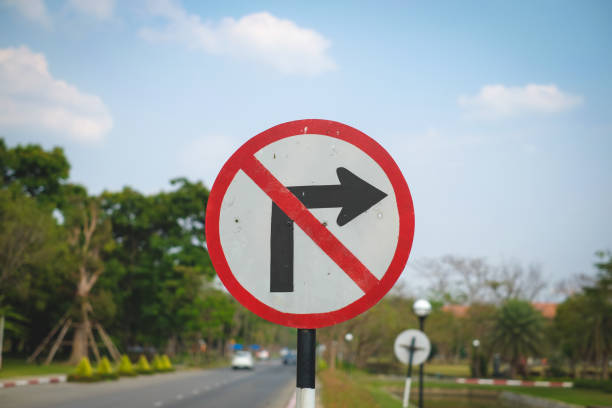saga_girilmez: (201, 116, 424, 321)
